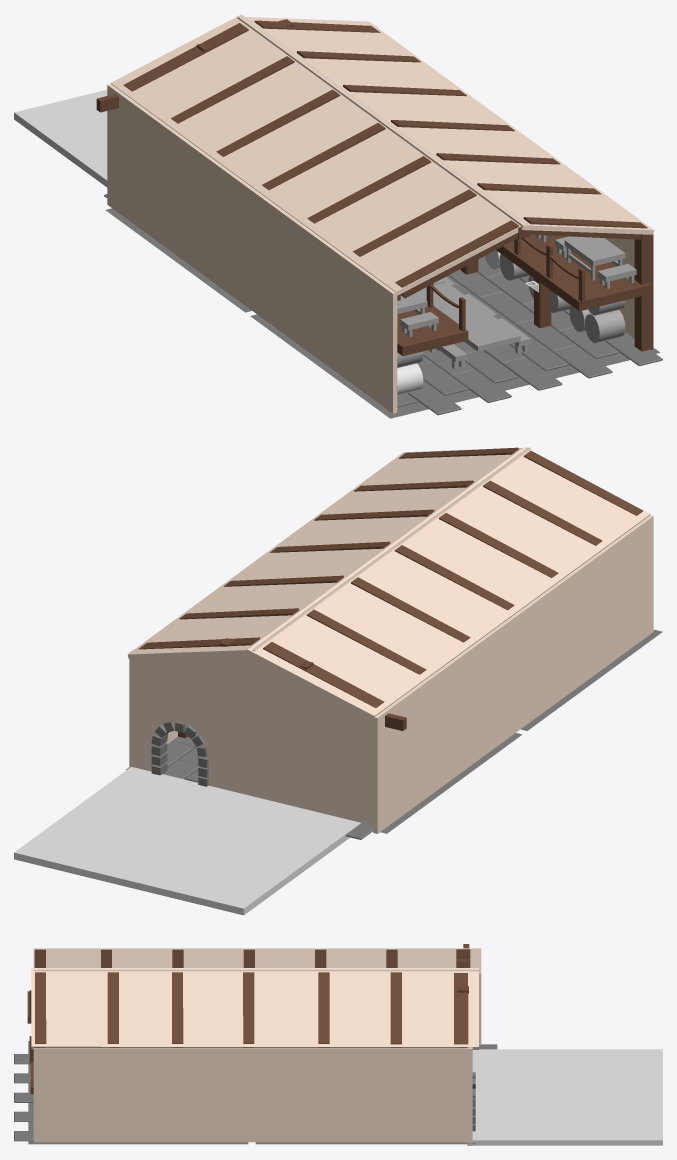
File: Blocking.fbx
The picture shows the model from 3 angles, top to bottom: view 1: azimuth 30°, elevation 25°; view 2: azimuth 150°, elevation 25°; view 3: azimuth 270°, elevation 25°; orthographic projection. The views are drawn at different scales.
Visible parts, largest first — view 1: pCube351; view 2: pCube351; view 3: pCube351.
Part boxes in pixels (box(x1,y1,x2,y2)): pCube351: box(14, 14, 662, 418); pCube351: box(14, 447, 662, 915); pCube351: box(14, 944, 662, 1145).
Bounding box in the file's own units: 816 × 449 × 2068.
